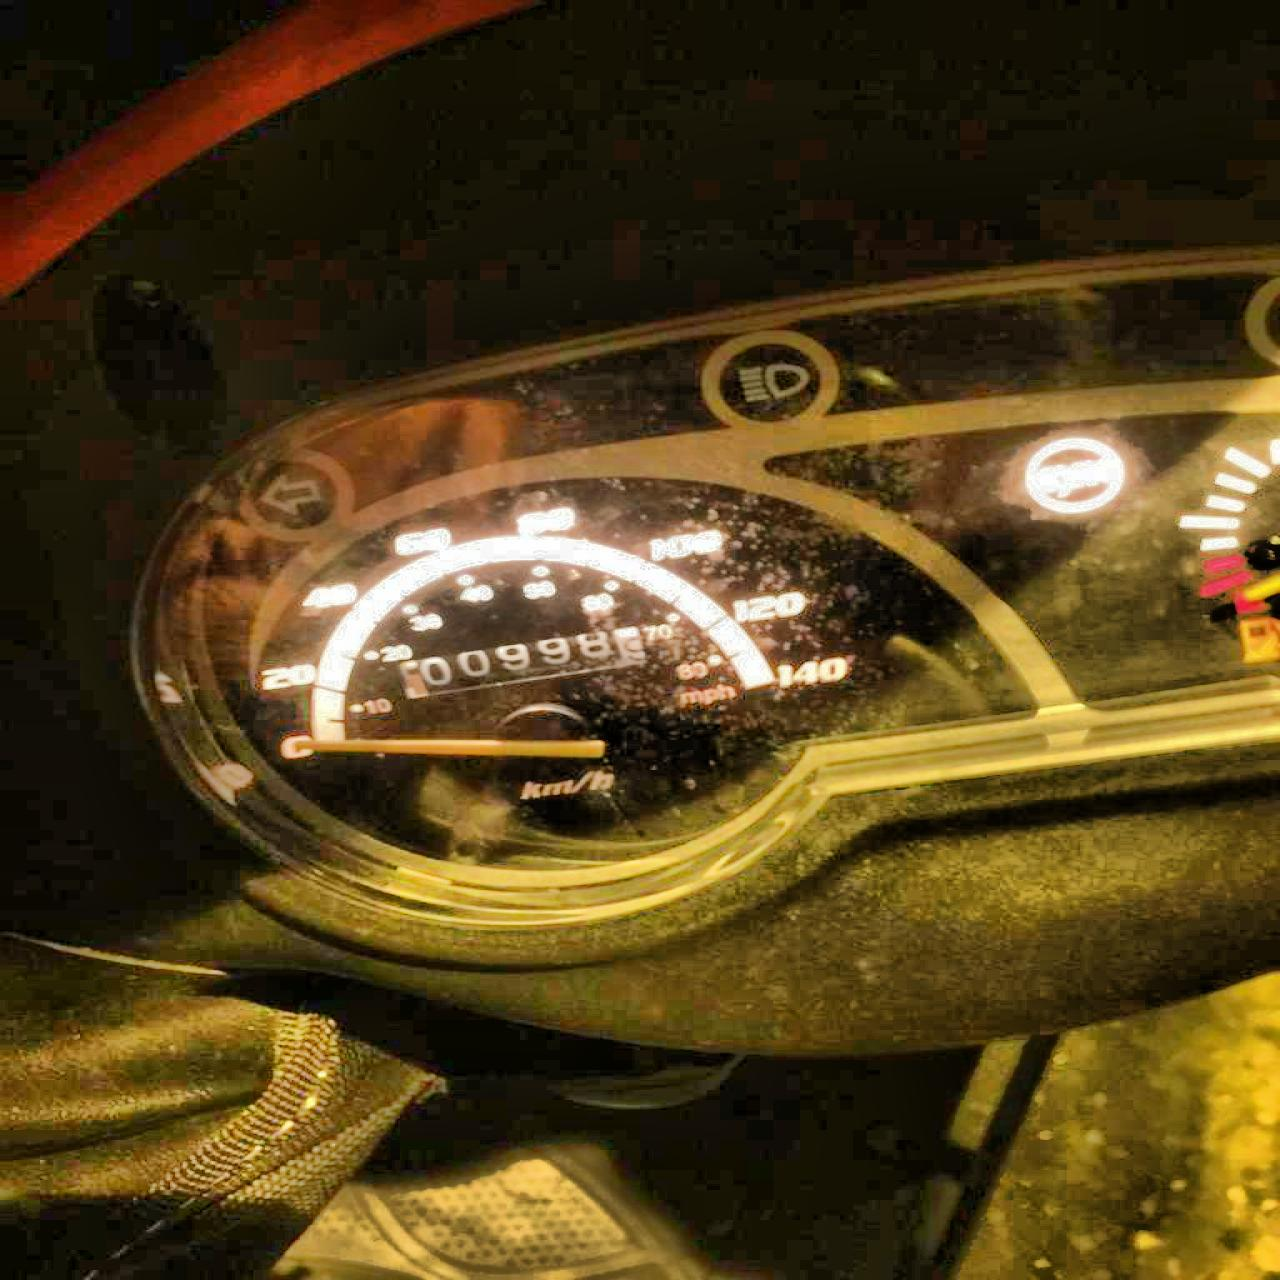0: (454, 647, 492, 678), (417, 654, 450, 685), (393, 642, 411, 660)
8: (573, 629, 610, 659)
9: (495, 641, 529, 670), (537, 635, 570, 665), (620, 634, 645, 661)
odometer: (390, 622, 645, 700)
